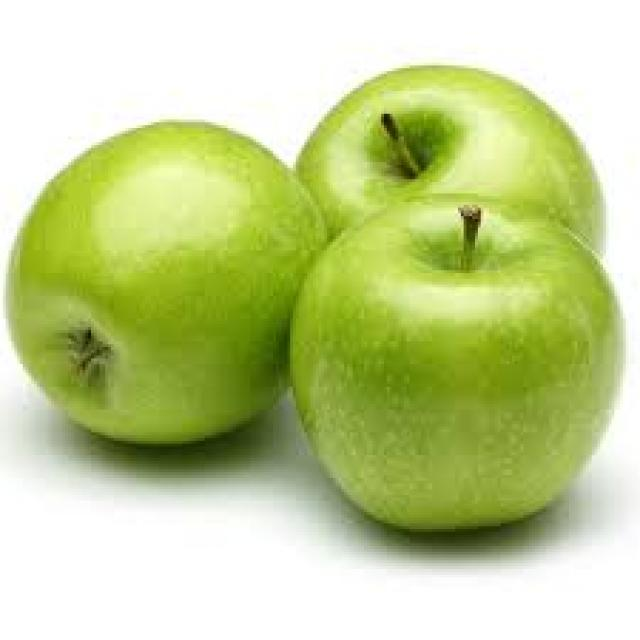Apple: (287, 65, 626, 538), (3, 122, 330, 449)
